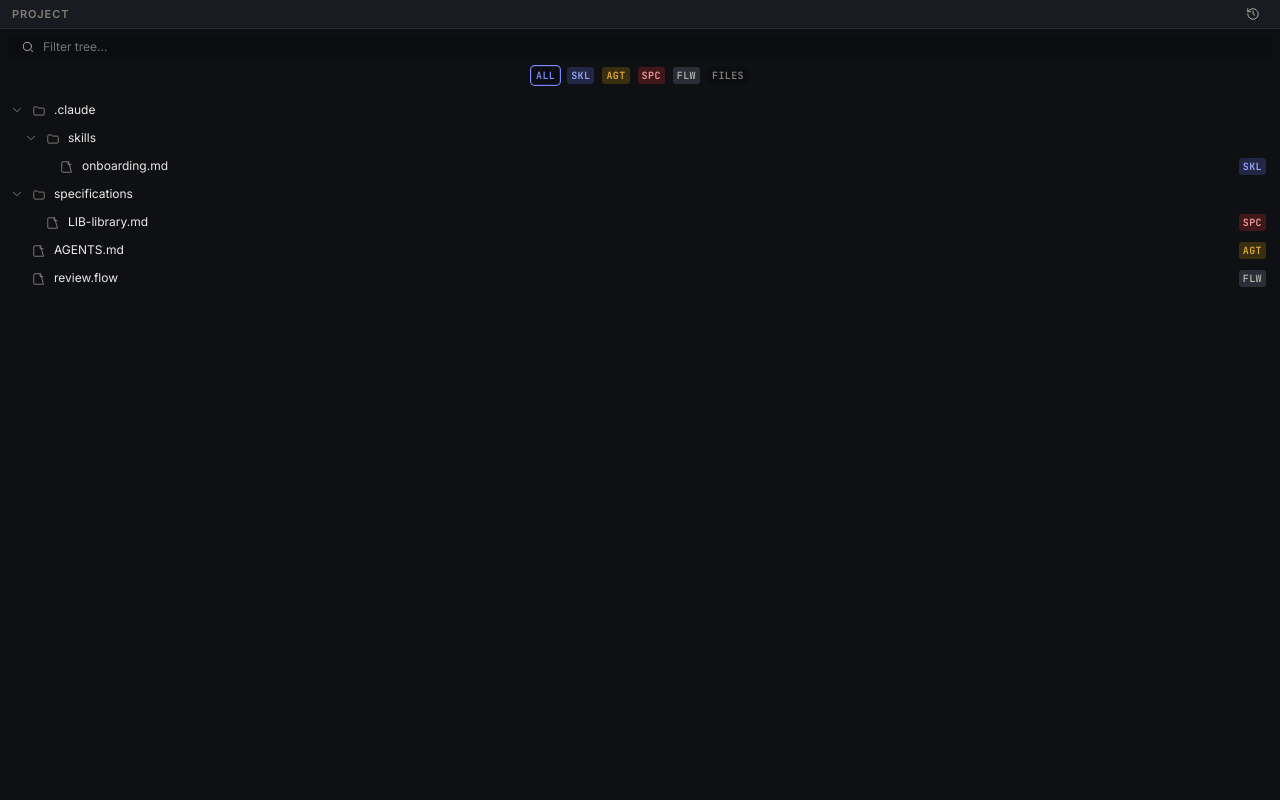
Test: Library filesystem tree › does not delete recursively when the confirmation is cancelled
Right-click the text "specifications" at x=94, y=194, box [54,186,133,201]
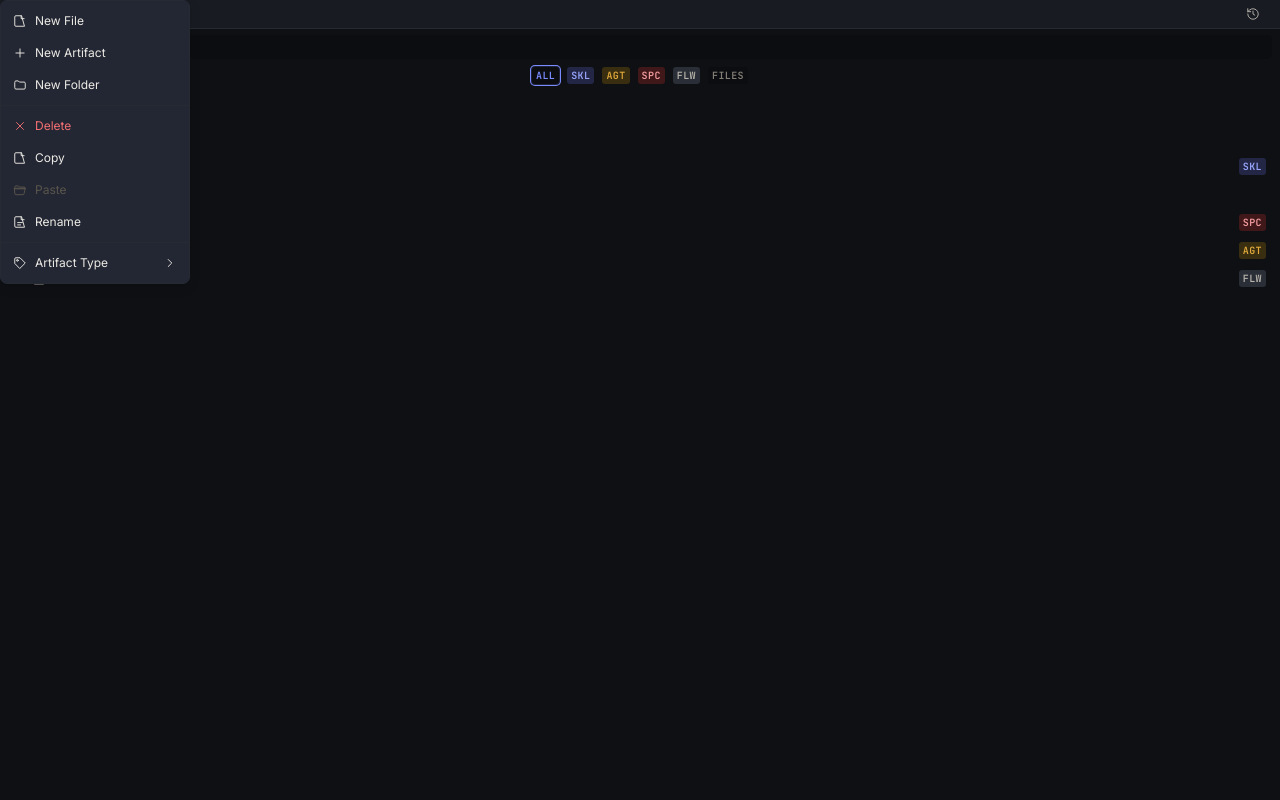
Click the text "Delete" at x=42, y=126, box [13,118,71,133]
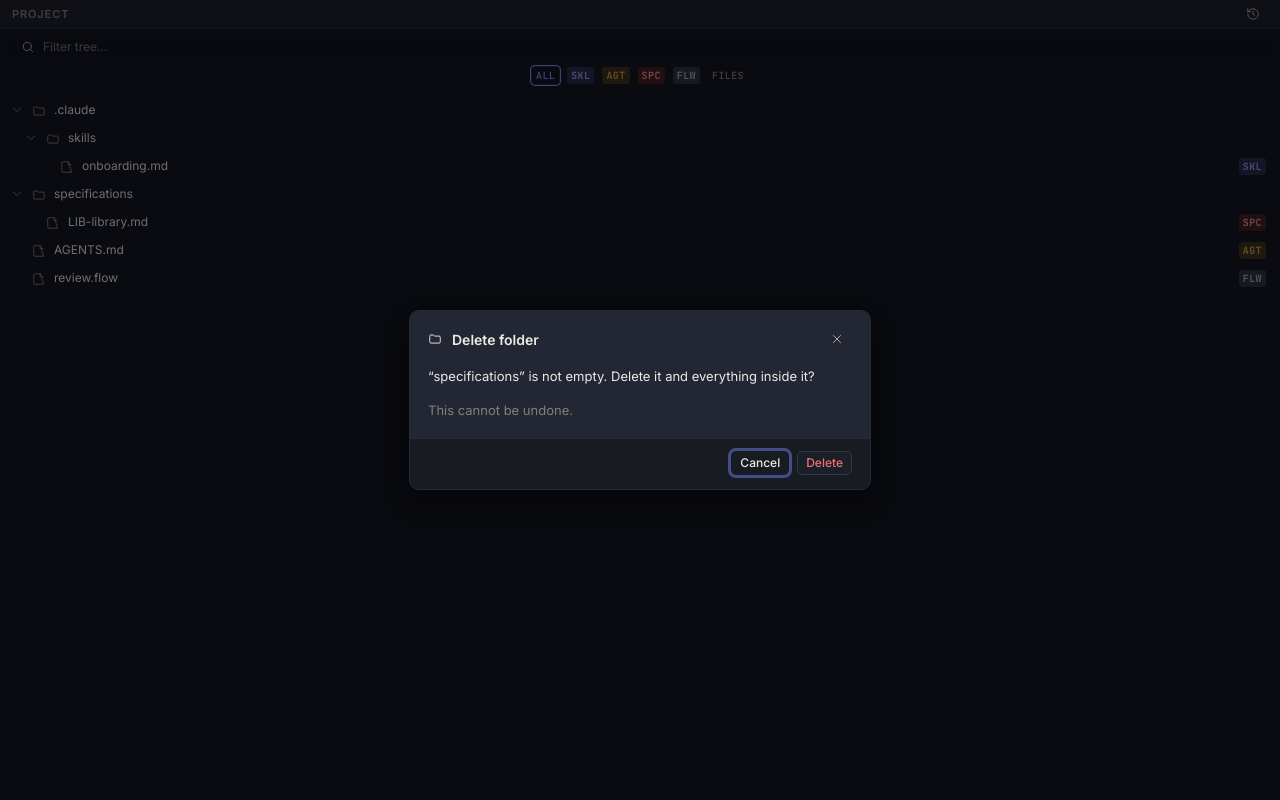
Click the button "Cancel" at x=760, y=463, box [731,451,789,475]
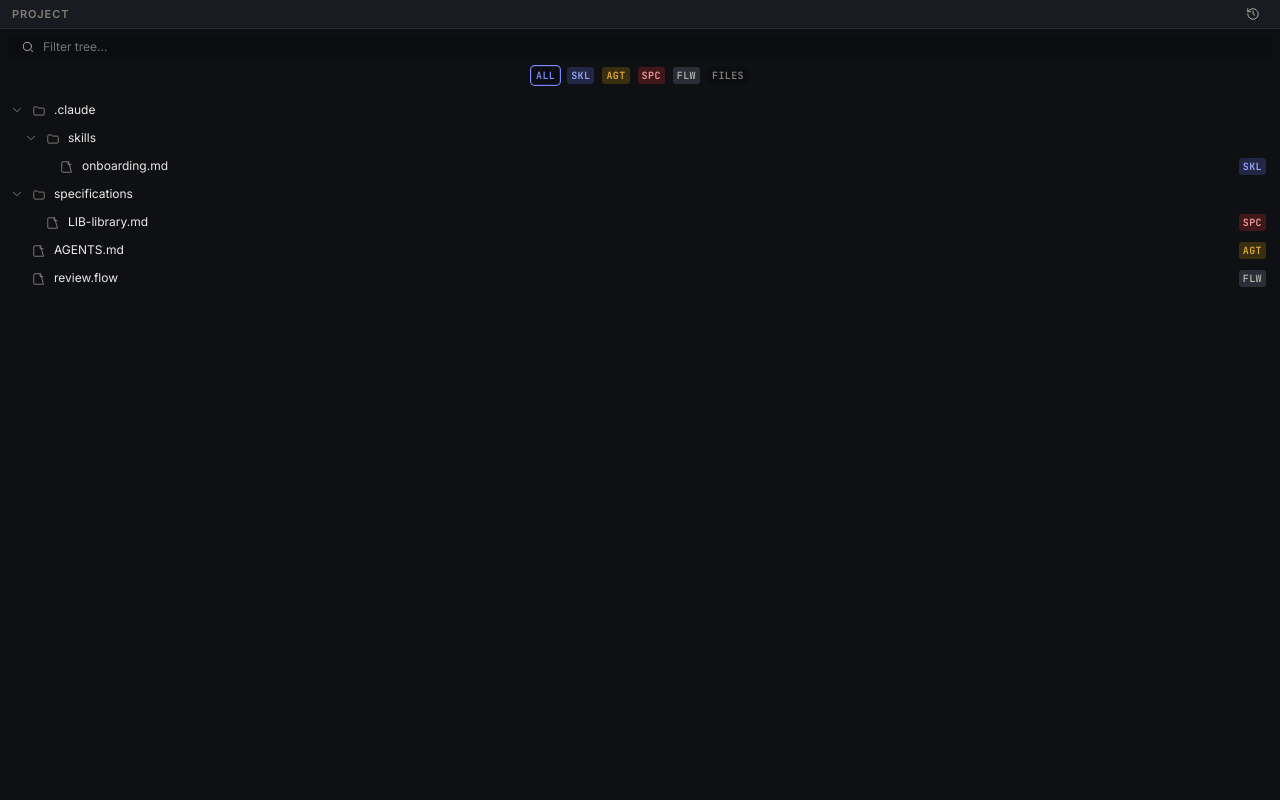
expect the text "specifications" is shown: met, box [54,186,133,201]
expect the text "Delete folder" is gone: met
